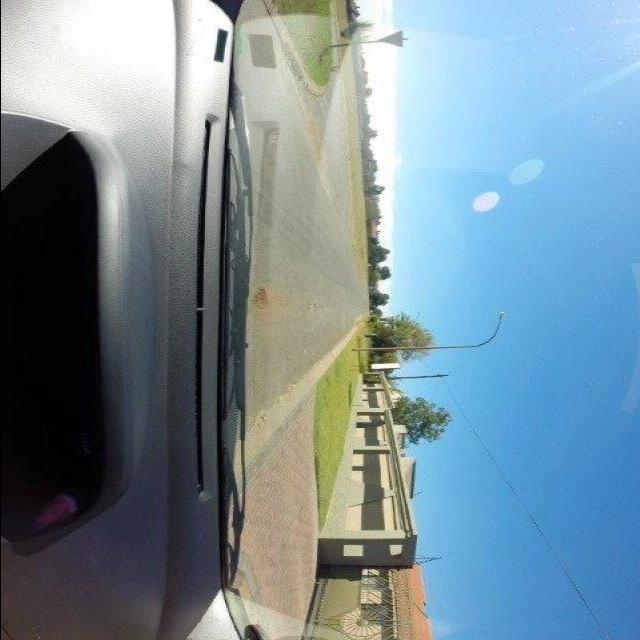lubang: (246, 287, 272, 317)
